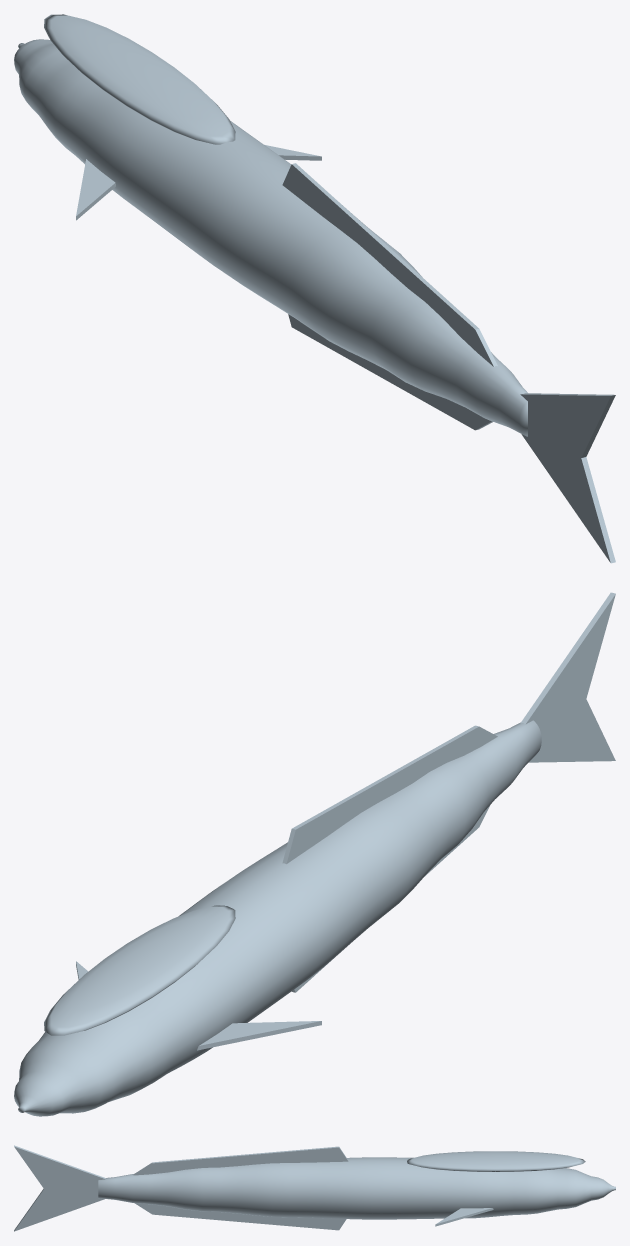
File: remora-brachyptera_placeholder.glb
3 views of the same model, one above another, from view 1: azimuth 30°, elevation 25°; view 2: azimuth 150°, elevation 25°; view 3: azimuth 270°, elevation 25° (orthographic). The views are drawn at different scales.
Visible parts, largest first — view 1: remora-placeholder; view 2: remora-placeholder; view 3: remora-placeholder.
Part boxes in pixels (x1=…): remora-placeholder: x1=14, y1=14, x2=615, y2=563; remora-placeholder: x1=14, y1=592, x2=615, y2=1116; remora-placeholder: x1=14, y1=1145, x2=615, y2=1231.
Size of the model in its own units: 0.24 by 0.156 by 1.
